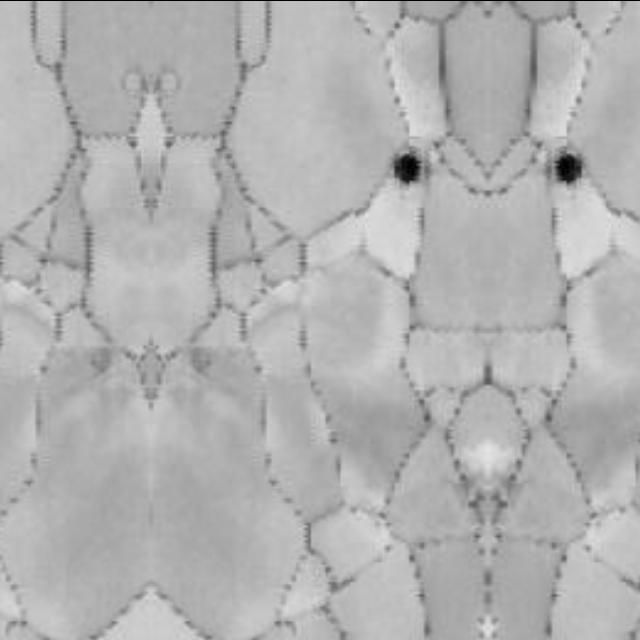good_void: (390, 148, 425, 187), (553, 148, 588, 187)
